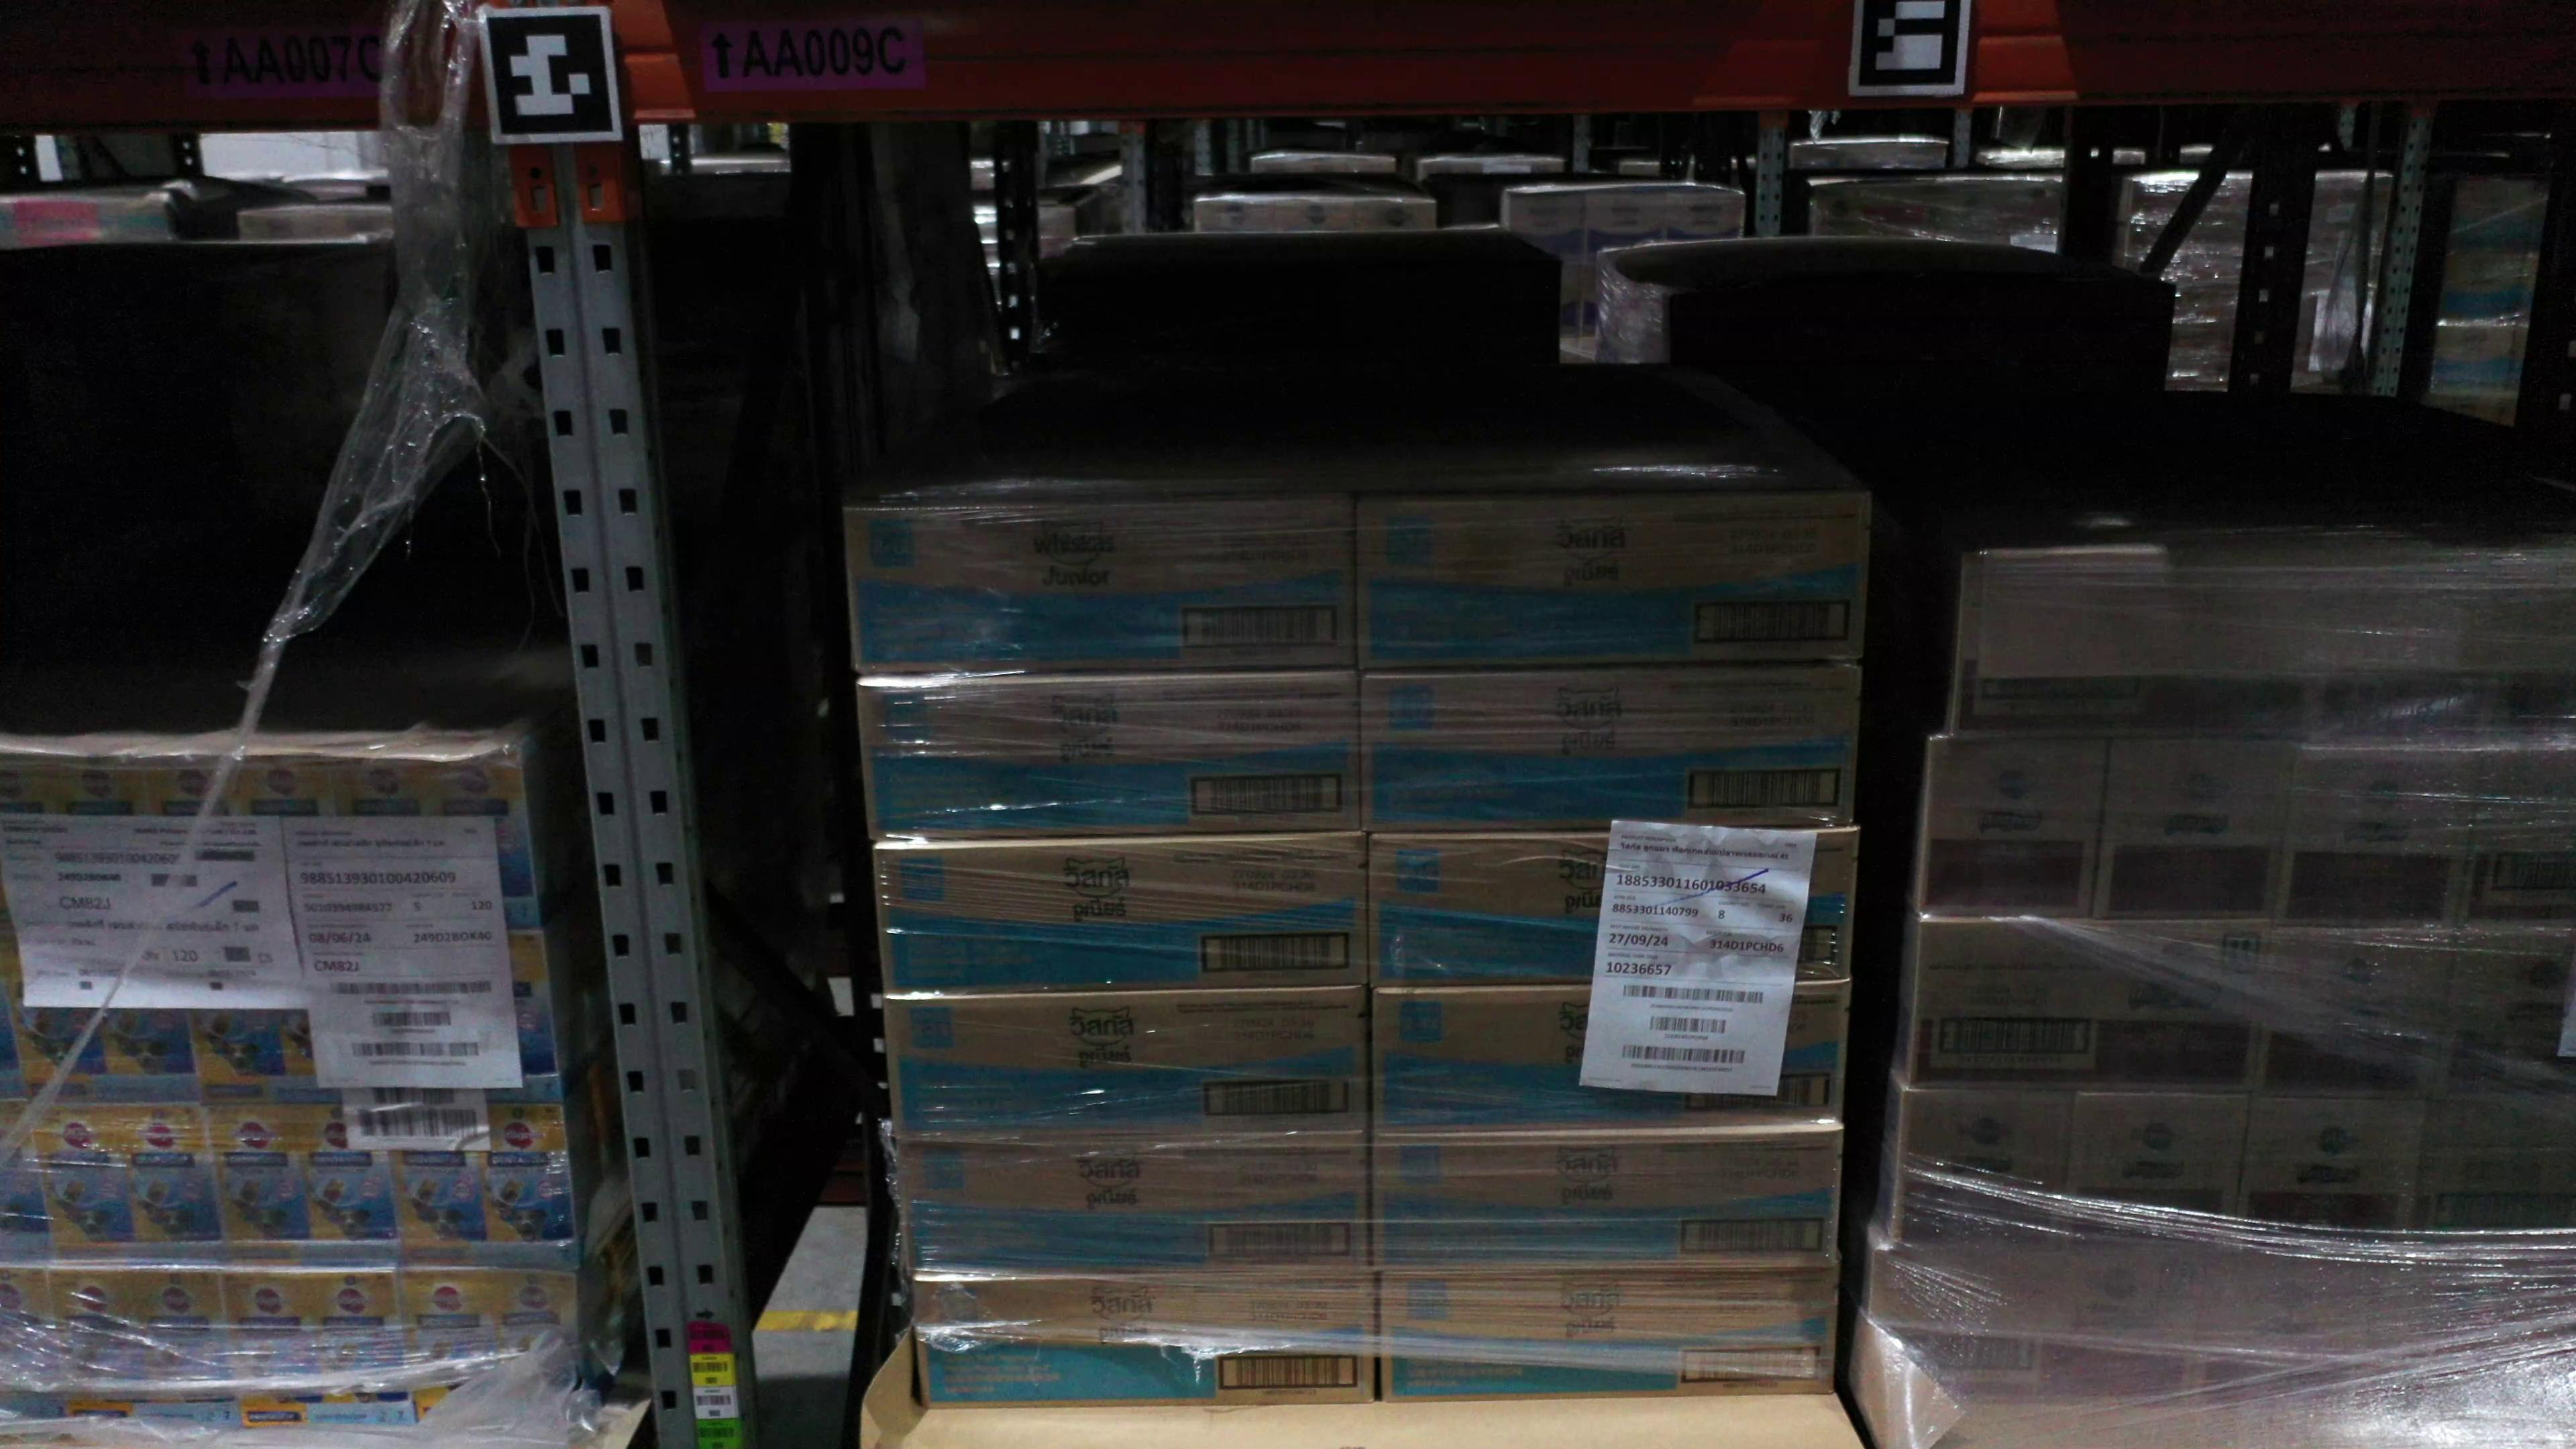-: (1353, 488, 1874, 671), (840, 502, 1357, 679), (1359, 660, 1861, 837), (855, 669, 1364, 842), (1364, 832, 1861, 993), (874, 837, 1371, 994), (1368, 984, 1847, 1138), (883, 991, 1371, 1141), (895, 1134, 1368, 1279), (1371, 1132, 1840, 1274), (1948, 559, 2304, 743), (1905, 924, 2273, 1099), (909, 1277, 1378, 1407), (1378, 1270, 1838, 1399), (1867, 1246, 2217, 1412), (142, 757, 363, 938), (2189, 1235, 2406, 1414), (340, 752, 543, 939), (2093, 736, 2296, 924), (2277, 740, 2482, 925), (2254, 924, 2456, 1100), (177, 938, 384, 1109), (1914, 740, 2104, 922), (51, 1265, 244, 1444), (2373, 1238, 2571, 1412), (372, 934, 566, 1109), (221, 1269, 418, 1440), (380, 1102, 582, 1269), (202, 1109, 403, 1274), (400, 1269, 593, 1438), (0, 752, 172, 938), (34, 1111, 223, 1269), (2229, 1093, 2424, 1244), (2059, 1092, 2249, 1246), (1895, 1093, 2074, 1246), (2410, 1095, 2576, 1251), (2442, 918, 2576, 1099), (2457, 745, 2576, 925), (2298, 671, 2496, 754), (2, 1265, 74, 1444), (2491, 676, 2576, 747)
